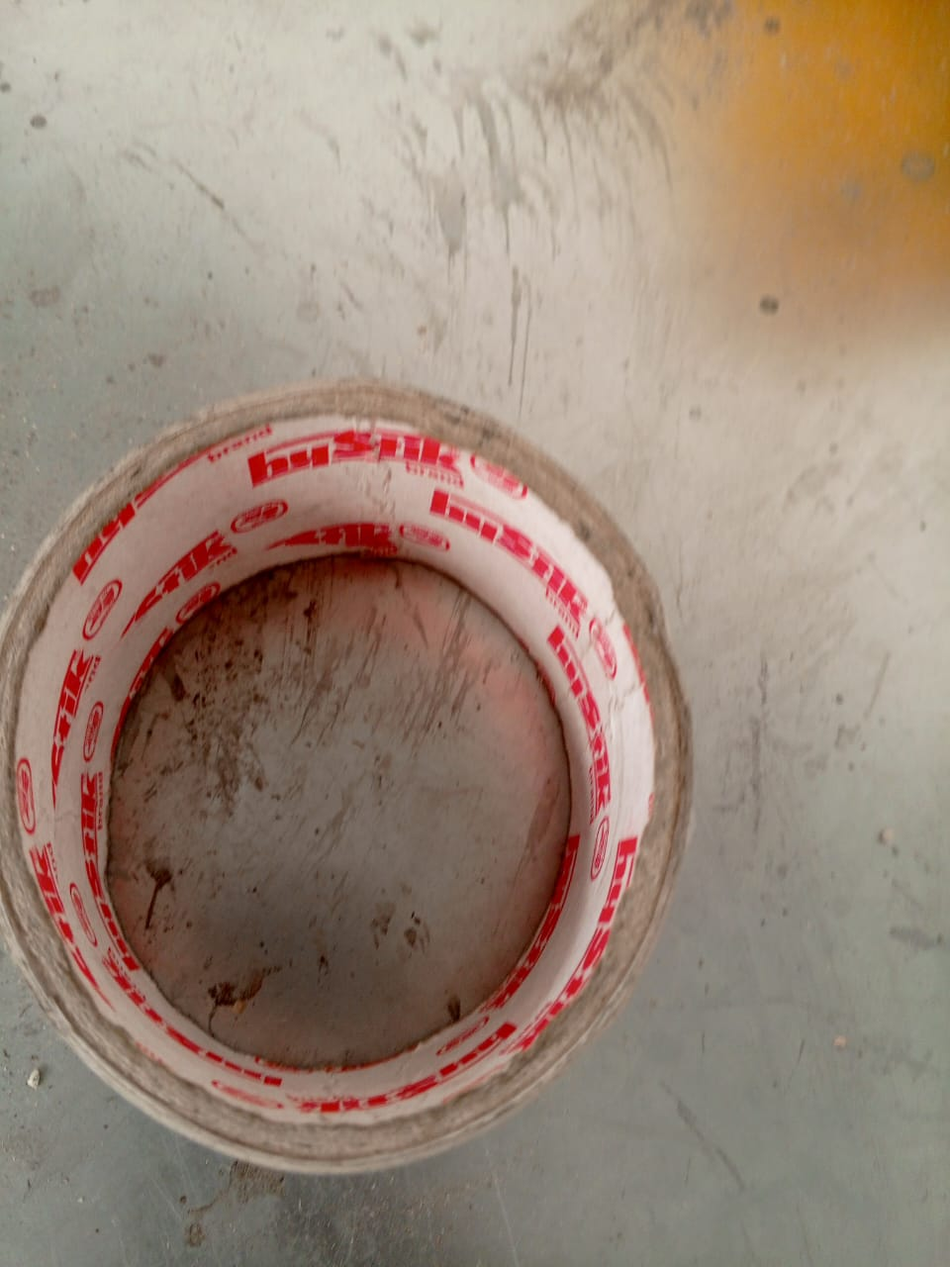Carton: (0, 378, 698, 1180)
